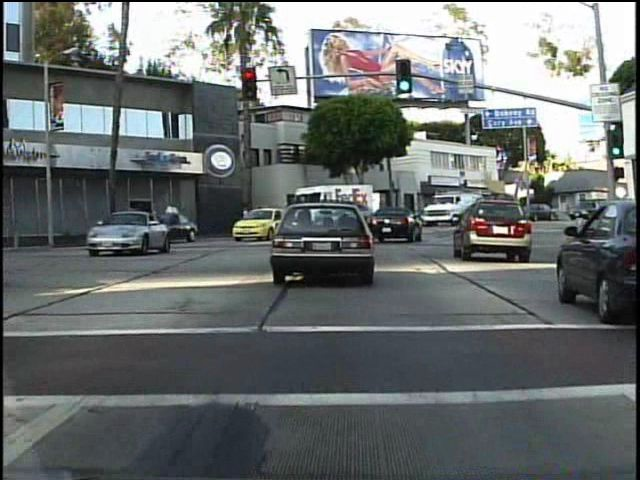person: (250, 202, 266, 234)
